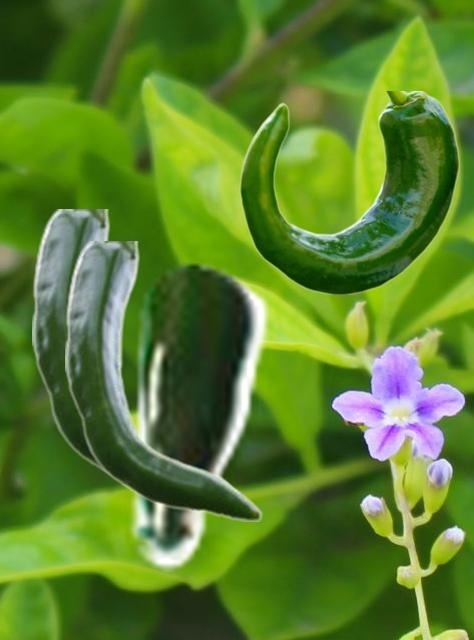green_chili: (32, 209, 237, 487), (65, 241, 262, 520), (122, 259, 270, 570), (239, 91, 459, 293)
